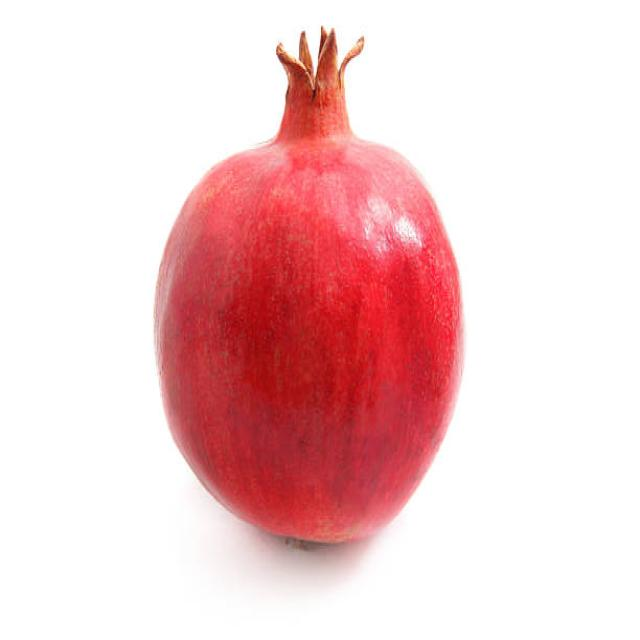Ripe: (149, 21, 469, 549)
